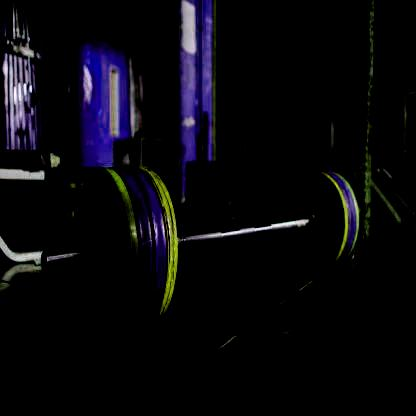Barbell: (31, 247, 49, 284)
